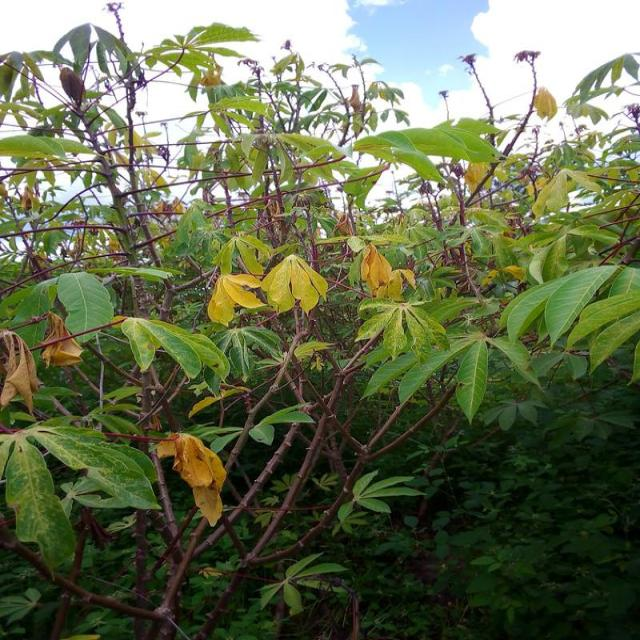cassava leaf: (2, 432, 78, 571), (157, 431, 228, 527), (57, 270, 115, 342)
